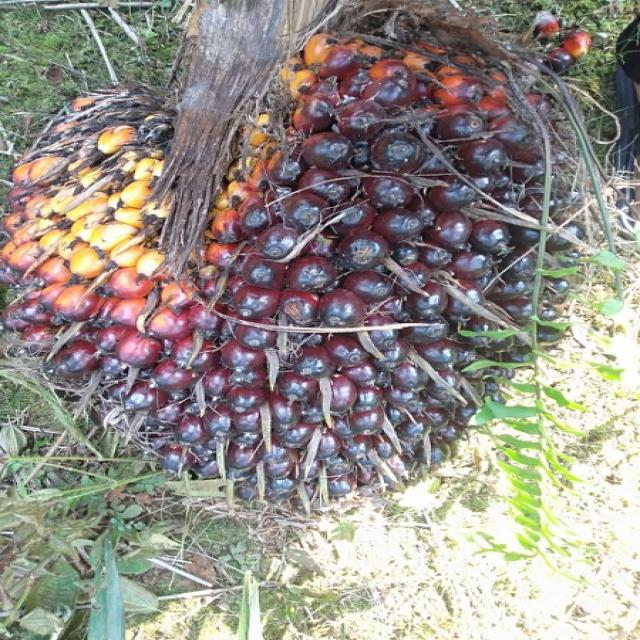fraksi 1: (2, 15, 601, 523)
